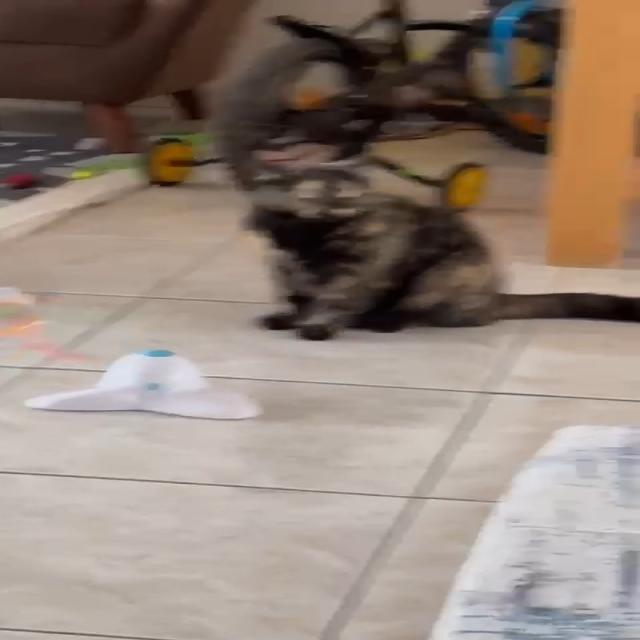authorized: (202, 13, 638, 340)
